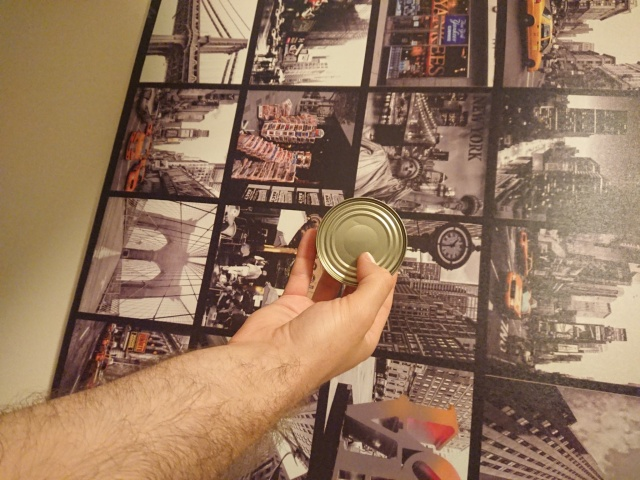Podravka Luncheon Meat 150g: (314, 196, 410, 290)
